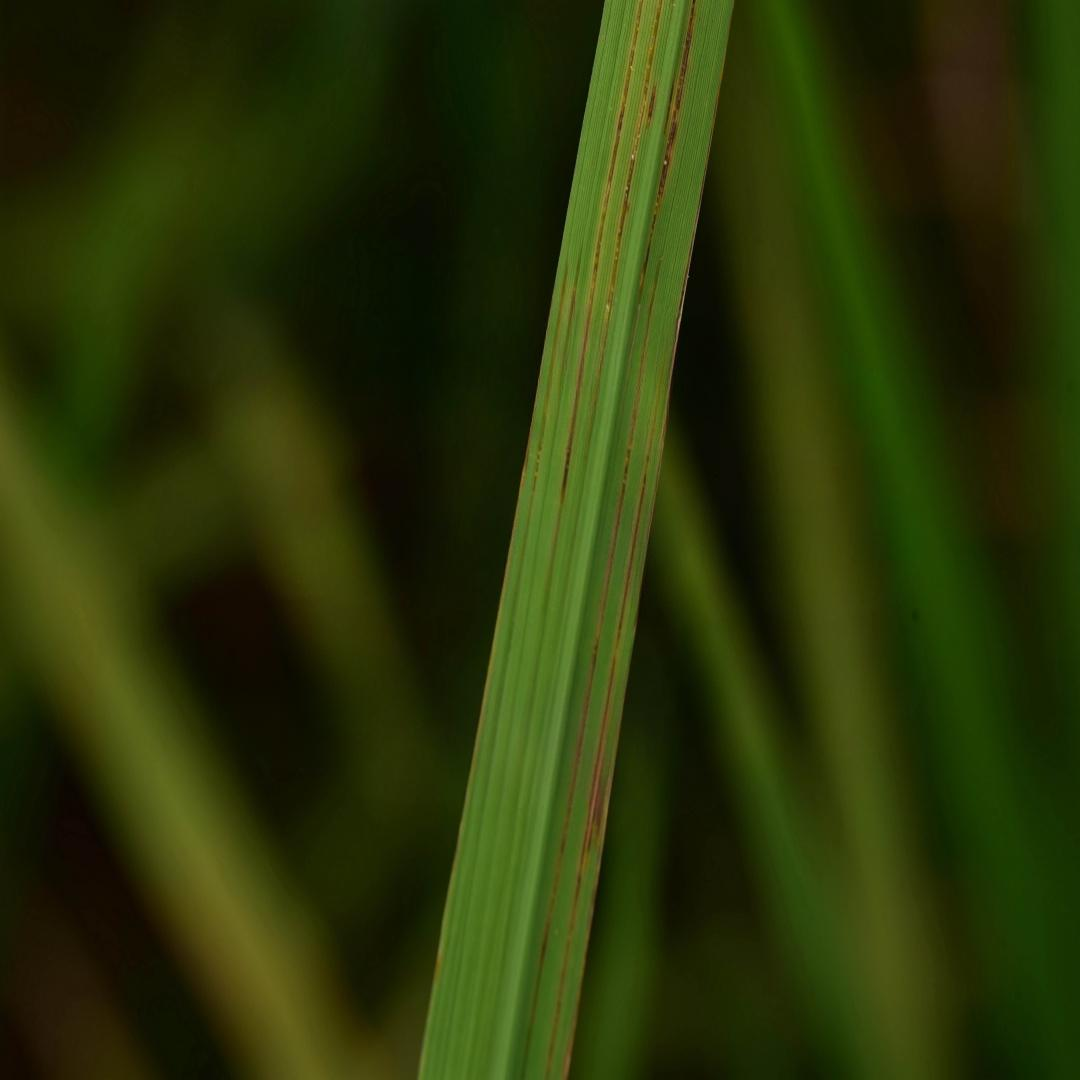BLS: (522, 256, 659, 1079), (545, 369, 663, 1079), (545, 0, 643, 604), (647, 55, 726, 551), (586, 0, 663, 465), (619, 0, 695, 431), (525, 250, 569, 533), (559, 246, 582, 390), (664, 74, 674, 139), (645, 84, 656, 129)
